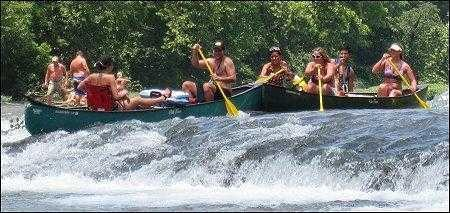kayak: (21, 79, 441, 126)
